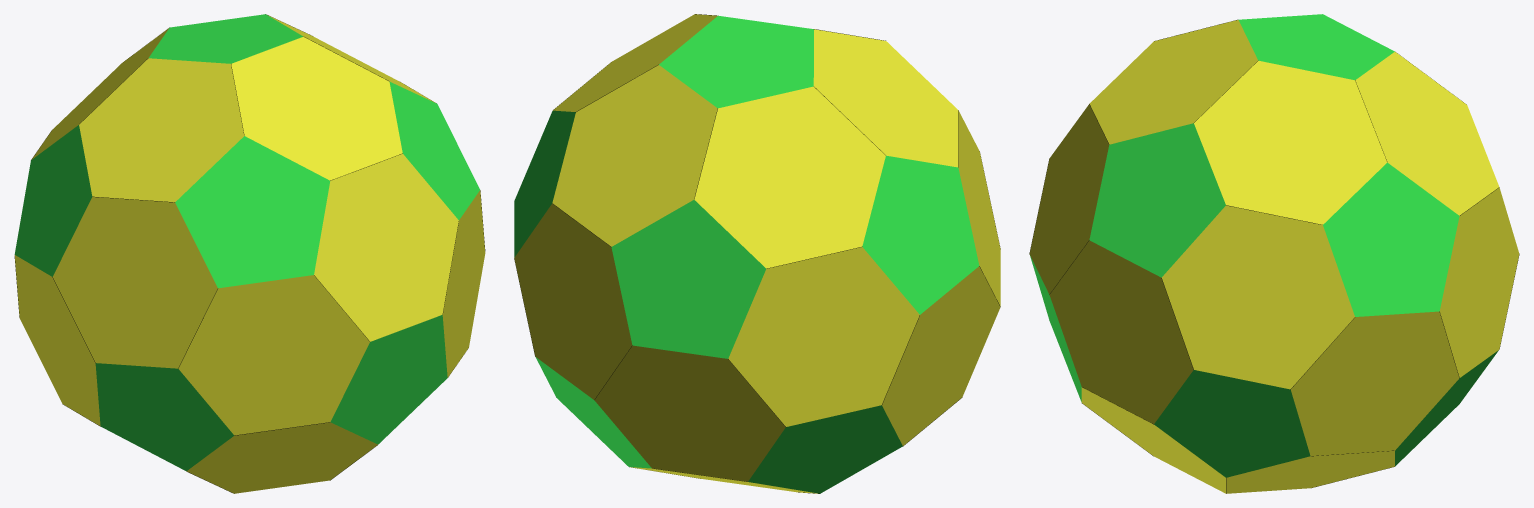
File: icosaedron.obj
3 views of the same model, side by side, from view 1: azimuth 30°, elevation 25°; view 2: azimuth 150°, elevation 25°; view 3: azimuth 270°, elevation 25° (orthographic). The views are drawn at different scales.
Parts seen in each view (by area): view 1: VIFS002, VIFS001, VILS001; view 2: VIFS002, VIFS001, VILS001; view 3: VIFS002, VIFS001, VILS001.
Boxes of the visible parts, x1=… form: VIFS002: x1=14, y1=15, x2=485, y2=493; VIFS001: x1=14, y1=14, x2=479, y2=471; VILS001: x1=14, y1=14, x2=485, y2=493; VIFS002: x1=514, y1=14, x2=1000, y2=493; VIFS001: x1=514, y1=15, x2=979, y2=493; VILS001: x1=514, y1=14, x2=1000, y2=493; VIFS002: x1=1029, y1=20, x2=1519, y2=493; VIFS001: x1=1030, y1=14, x2=1498, y2=477; VILS001: x1=1029, y1=19, x2=1519, y2=493.
Bounding box in the file's own units: 2.02 × 1.99 × 2.04.
